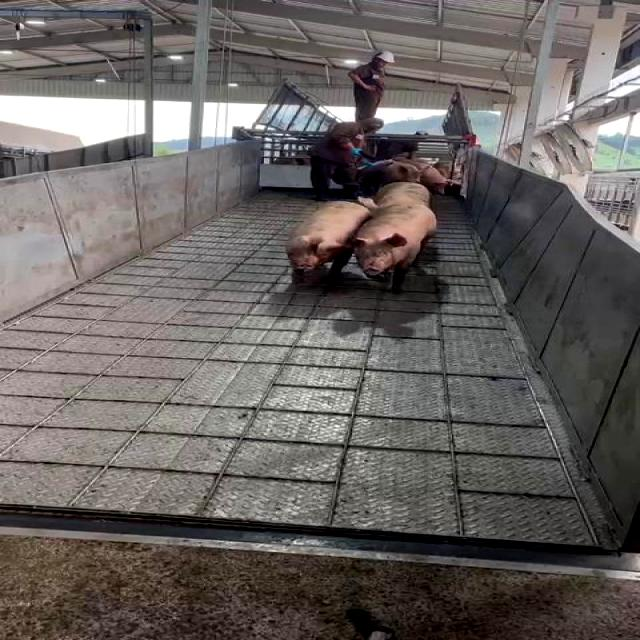pig: (287, 202, 371, 284), (355, 205, 435, 291), (373, 183, 431, 207)
